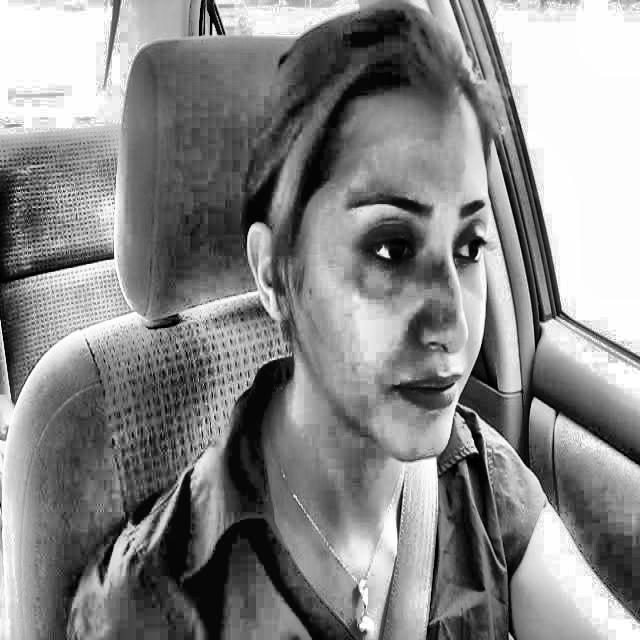closed_mouth: (379, 360, 486, 425)
open_eyes: (356, 217, 425, 277), (449, 220, 500, 271)
